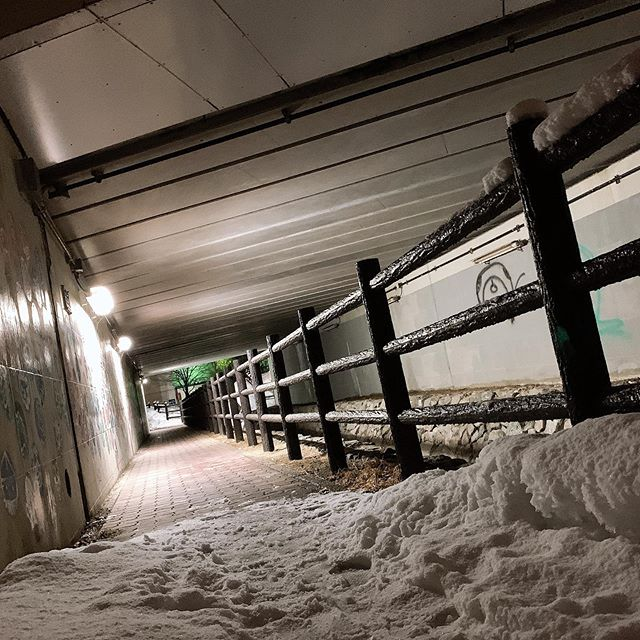tunnel: (1, 1, 640, 640)
